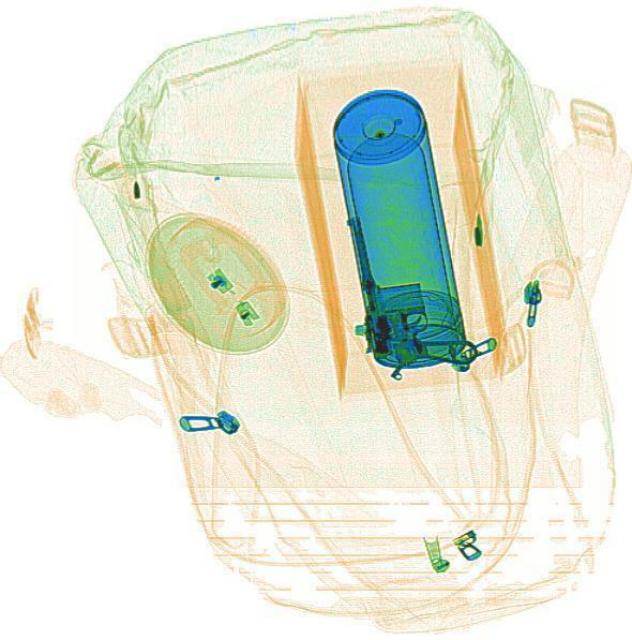Gun: (342, 200, 479, 384)
